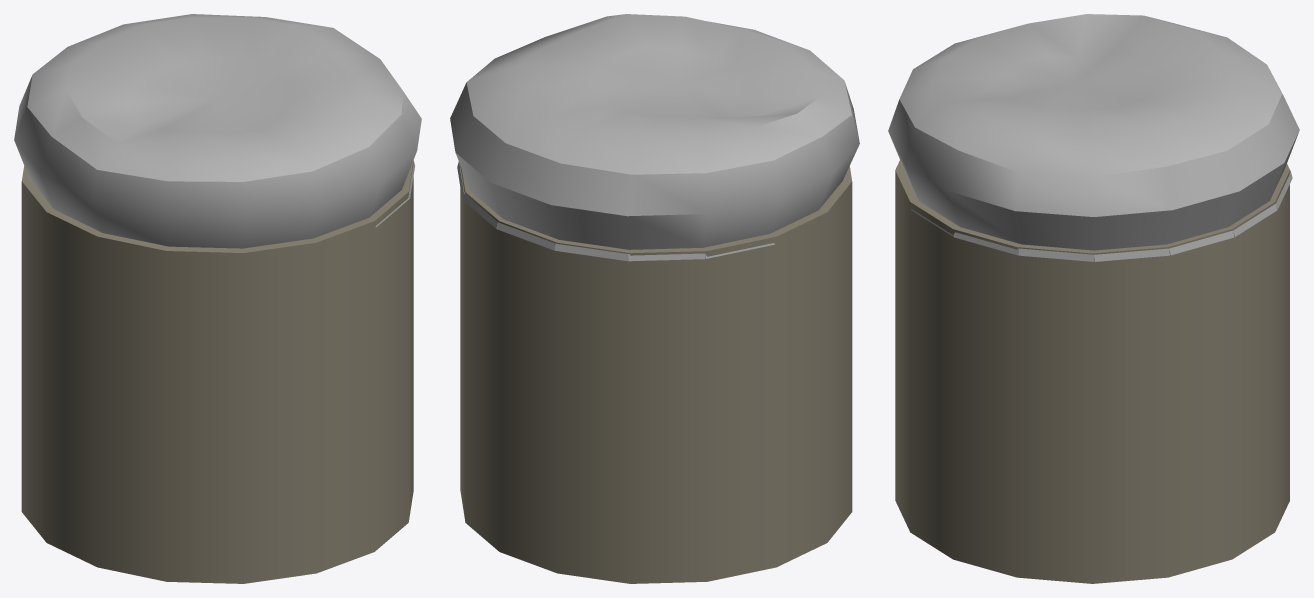
File: Pouf.fbx
3 views of the same model, side by side, from view 1: azimuth 30°, elevation 25°; view 2: azimuth 150°, elevation 25°; view 3: azimuth 270°, elevation 25° (orthographic).
Visible parts, largest first — view 1: stand, Seat; view 2: stand, Seat; view 3: stand, Seat.
Boxes of the visible parts, left/top/right/bottom form: stand: left=21, top=160, right=413, bottom=583; Seat: left=14, top=14, right=421, bottom=248; stand: left=460, top=166, right=852, bottom=583; Seat: left=450, top=14, right=859, bottom=261; stand: left=895, top=160, right=1289, bottom=583; Seat: left=888, top=14, right=1299, bottom=261.
Size of the model in its own units: 34.22 by 39.32 by 34.28.
